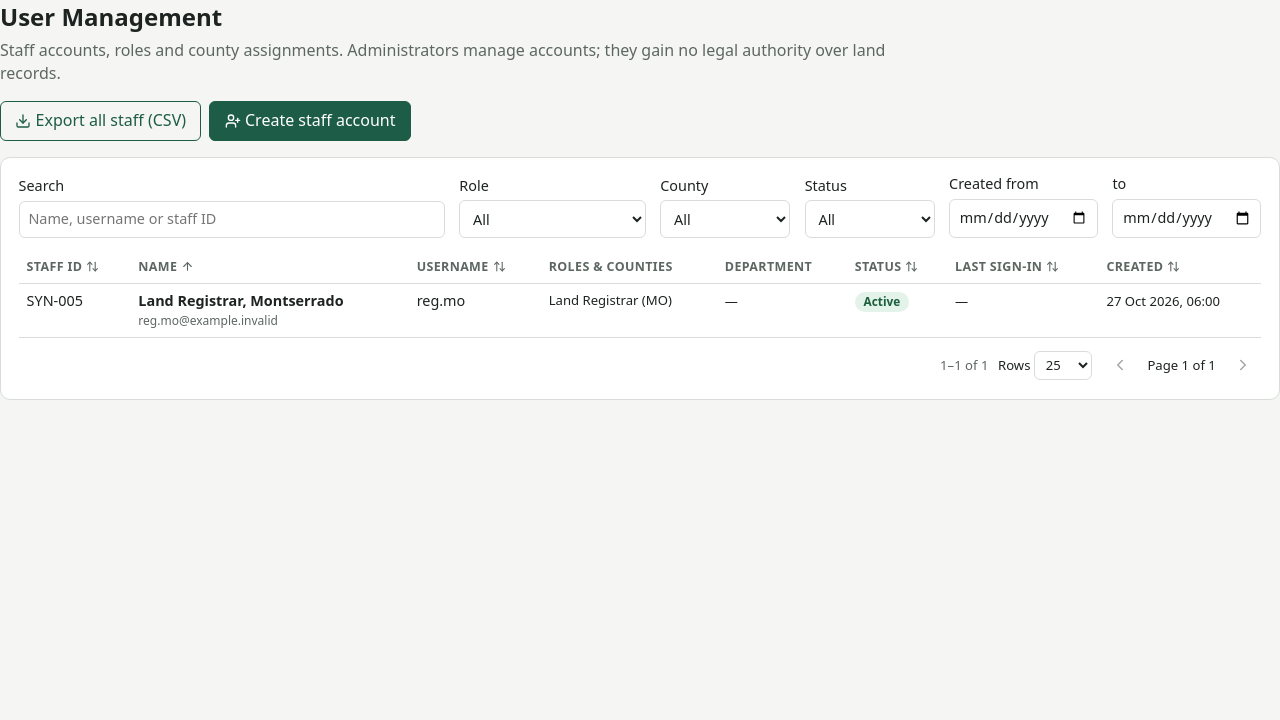
Test: User management › creates an invited account and shows the activation link once, with no password field anywhere
Step 1. Click the button "Create staff account" → point(310, 121), box top-left (210, 101), bottom-right (411, 141)
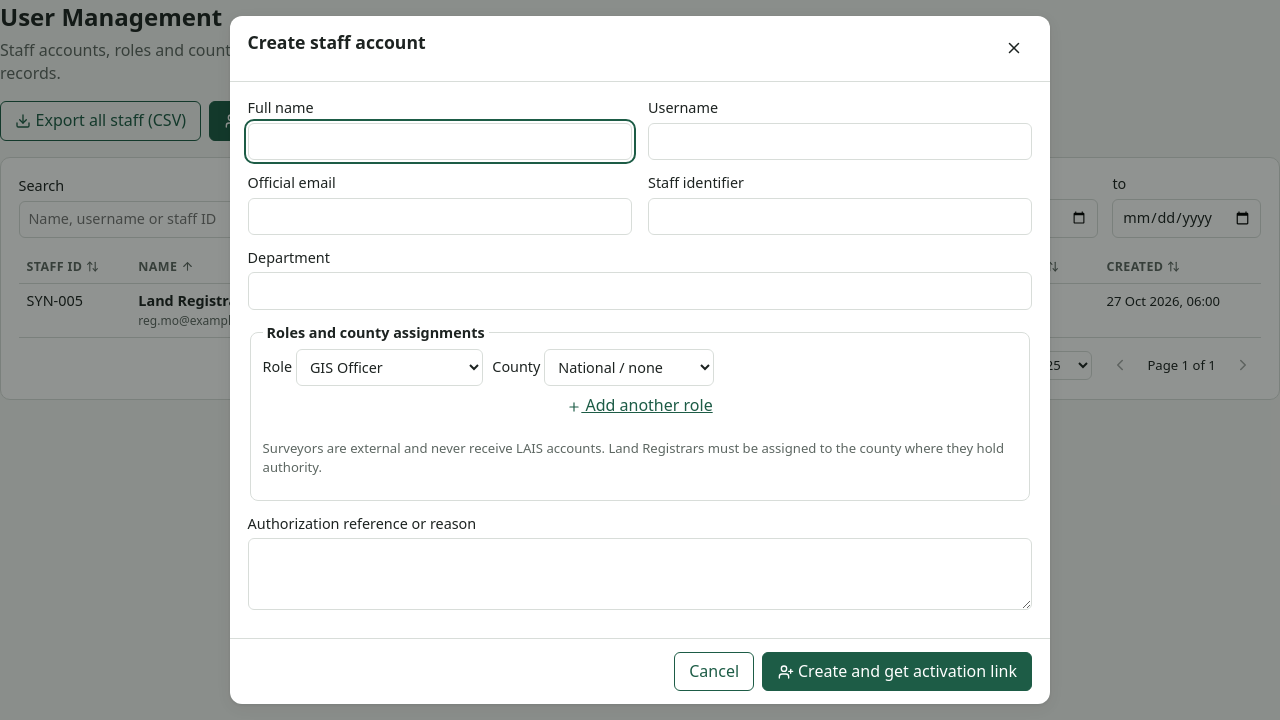
Step 2. Type "Deddeh Testperson" into the field labelled "Full name" → point(440, 141), box top-left (248, 123), bottom-right (632, 160)
Step 3. Type "reg2.mo" into the field labelled "Username" → point(840, 141), box top-left (648, 123), bottom-right (1032, 160)
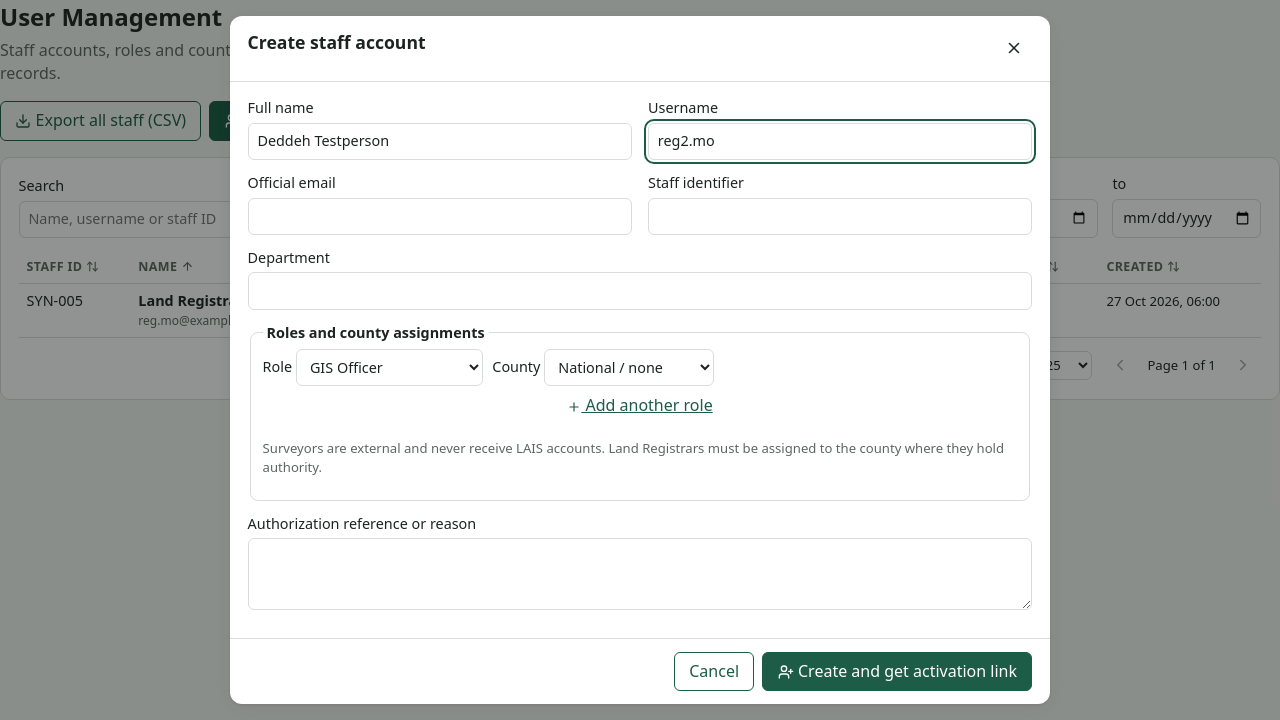
Step 4. Type "SYNTHETIC delegation DI-1" into the text box labelled "Authorization reference or reason" → point(640, 574), box top-left (248, 538), bottom-right (1032, 610)
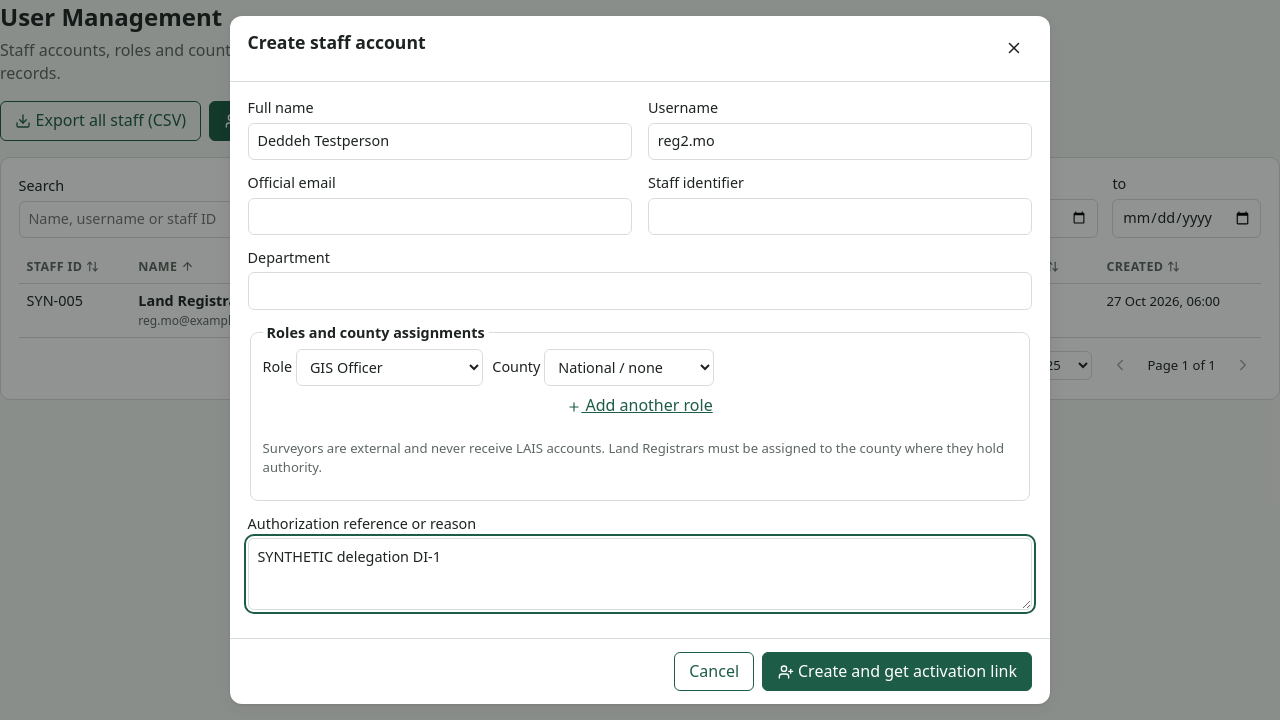
Step 5. Select "Land Registrar" in the dropdown labelled "Role" → point(389, 368), box top-left (296, 349), bottom-right (483, 386)
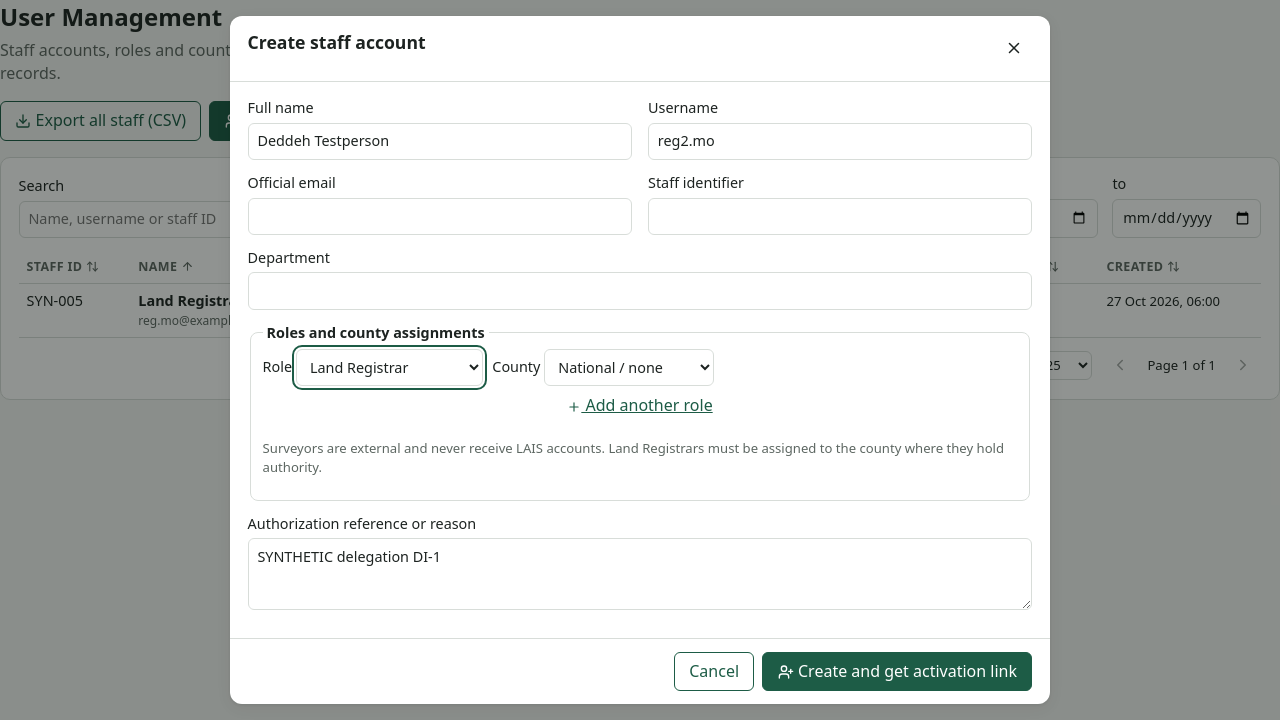
Step 6. Select "Montserrado" in the dropdown labelled "County" → point(629, 368), box top-left (544, 349), bottom-right (714, 386)
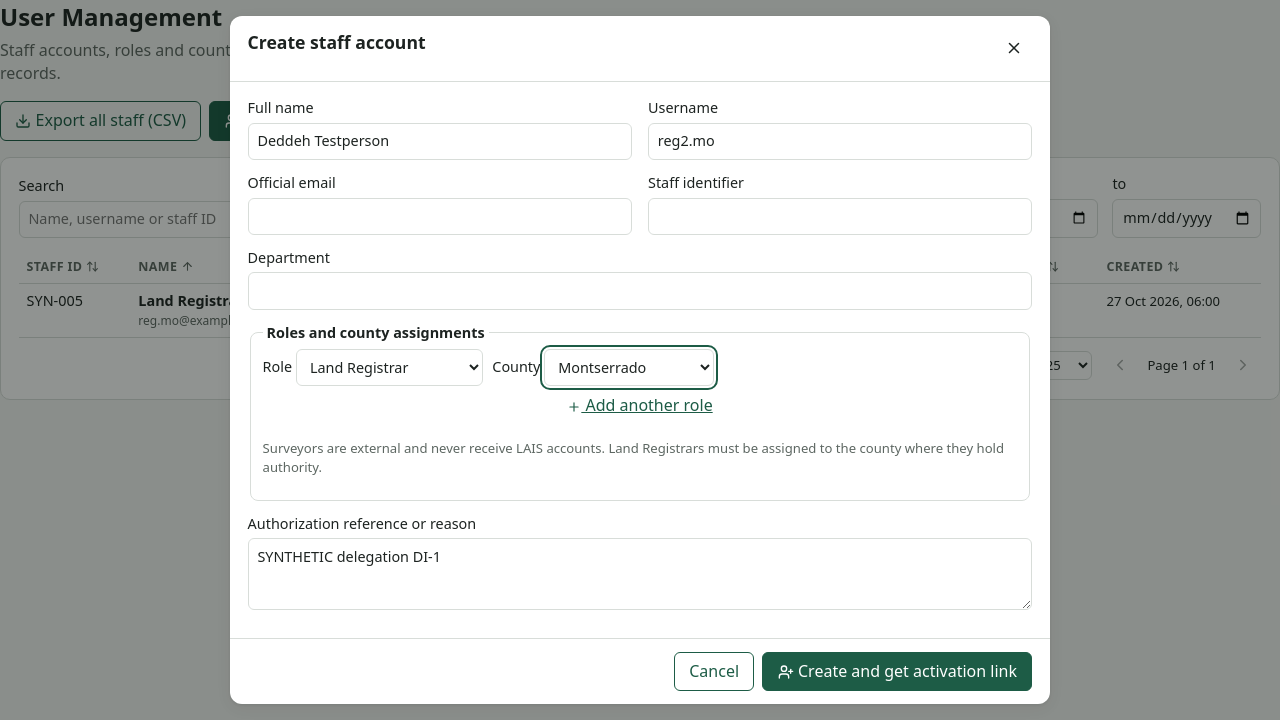
Step 7. Click the button "Create and get activation link" → point(898, 671), box top-left (762, 652), bottom-right (1032, 691)
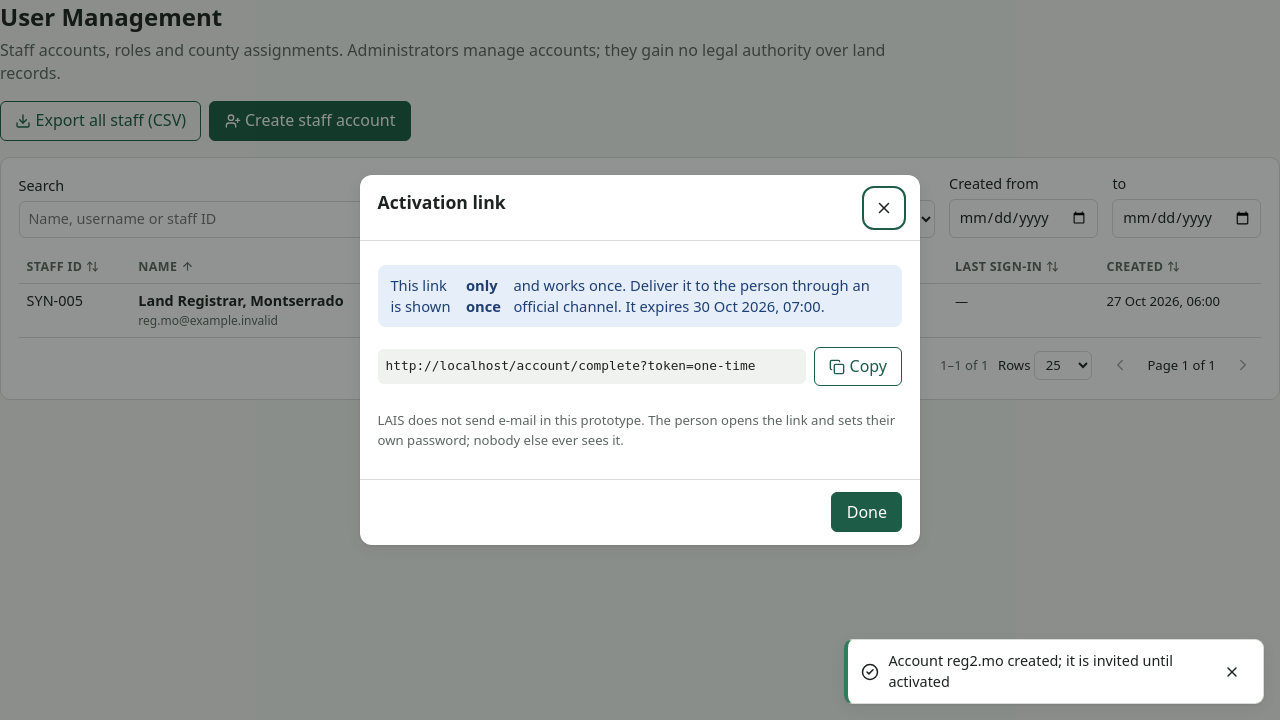
Result: the text "http://localhost/account/complete?token=one-time" is shown at top-left (378, 349), bottom-right (806, 384)
Result: the text "only once" is shown at top-left (466, 275), bottom-right (505, 317)
